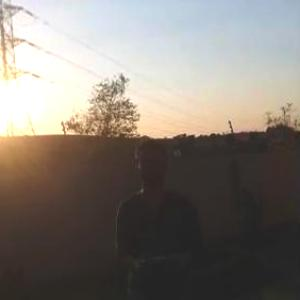follow: (112, 134, 200, 299)
